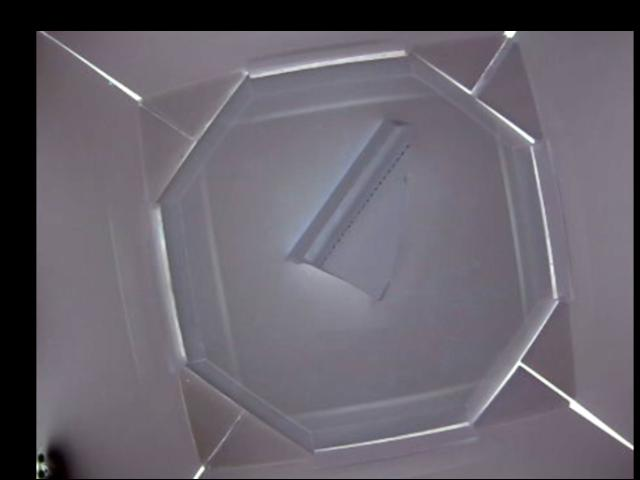China: (280, 118, 410, 299)
